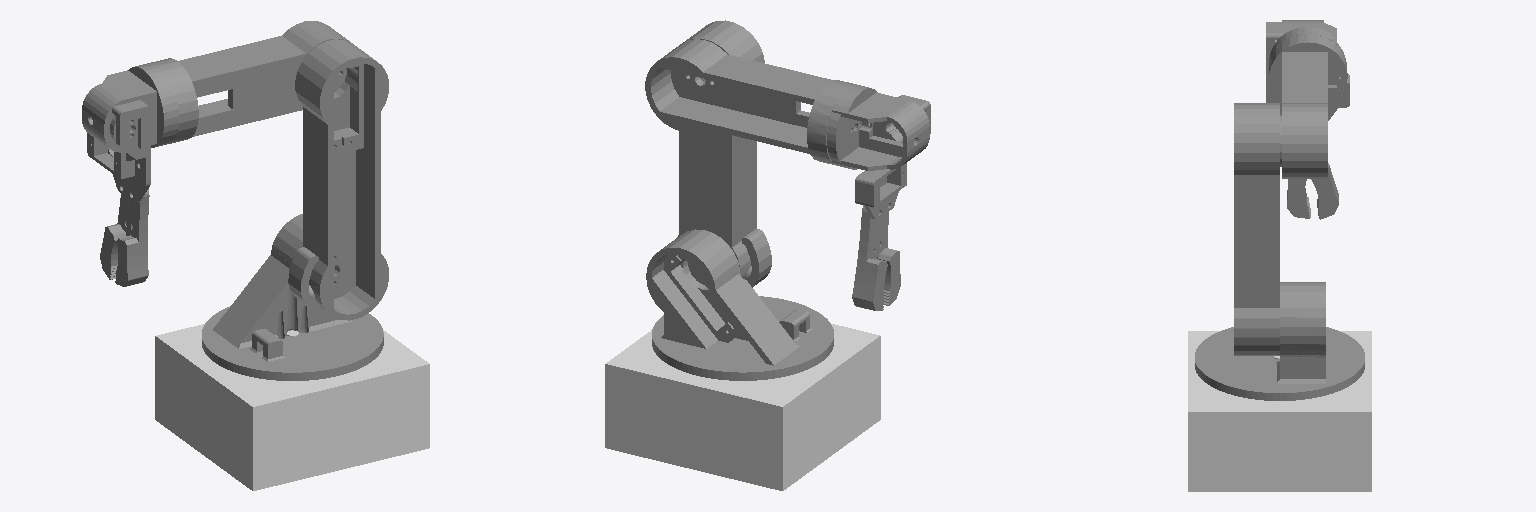
The robot description file, URDF, robot "simulation":
<?xml version="1.0"?>
<robot name="simulation">
  <link name="world" />
  <link name="base_link">
    <inertial>
      <origin xyz="-3.9471656139169E-06 0.0571124462627822 -1.17276231944829E-08" rpy="0 0 0" />
      <mass value="0.531137946414649" />
      <inertia ixx="0.00062928835187918" ixy="-1.54260902849102E-11" ixz="4.62592591097963E-18" iyy="0.00109493048635632" iyz="-1.39717869766964E-10" izz="0.000681022726879226" />
    </inertial>
    <visual>
      <origin xyz="0 0 0" rpy="0 0 0" />
      <geometry>
        <mesh filename="package://robot_c/meshes/base_link.STL" />
      </geometry>
      <material name="base_link_material">
        <color rgba="0.894117647058823 0.894117647058823 0.894117647058823 1" />
      </material>
    </visual>
    <collision>
      <origin xyz="0 0 0" rpy="0 0 0" />
      <geometry>
        <mesh filename="package://robot_c/meshes/base_link.STL" />
      </geometry>
    </collision>
  </link>
  <link name="link_1">
    <inertial>
      <origin xyz="-0.00672382541074007 -0.00461991508358907 0.0184590879178034" rpy="0 0 0" />
      <mass value="0.0822626951373637" />
      <inertia ixx="5.55502952597826E-05" ixy="-4.66210500086204E-06" ixz="1.24085855601881E-05" iyy="6.96571420344847E-05" iyz="6.14770061252054E-06" izz="7.27137383688968E-05" />
    </inertial>
    <visual>
      <origin xyz="0 0 0" rpy="0 0 0" />
      <geometry>
        <mesh filename="package://robot_c/meshes/link_1.STL" />
      </geometry>
      <material name="link_1_material">
        <color rgba="0.627450980392157 0.627450980392157 0.627450980392157 1" />
      </material>
    </visual>
    <collision>
      <origin xyz="0 0 0" rpy="0 0 0" />
      <geometry>
        <mesh filename="package://robot_c/meshes/link_1.STL" />
      </geometry>
    </collision>
  </link>
  <joint name="joint_1" type="revolute">
    <origin xyz="0 0.030813992382893 0" rpy="-1.5707963267949 0 -3.14159265358979" />
    <parent link="base_link" />
    <child link="link_1" />
    <axis xyz="0 0 -1" />
    <limit lower="-1.57079632679" upper="1.57079632679" effort="10" velocity="1" />
    <dynamics damping="0.02" friction="0.001" />
  </joint>
  <link name="link_2">
    <inertial>
      <origin xyz="0.000965170760363857 -0.0103596742234023 -0.0580854874466602" rpy="0 0 0" />
      <mass value="0.0655666551479021" />
      <inertia ixx="0.000154480609773224" ixy="1.82852661194231E-07" ixz="-3.50945199960059E-06" iyy="0.000163089694961387" iyz="8.97514977703611E-07" izz="1.66348948003685E-05" />
    </inertial>
    <visual>
      <origin xyz="0 0 0" rpy="0 0 0" />
      <geometry>
        <mesh filename="package://robot_c/meshes/link_2.STL" />
      </geometry>
      <material name="link_2_material">
        <color rgba="0.627450980392157 0.627450980392157 0.627450980392157 1" />
      </material>
    </visual>
    <collision>
      <origin xyz="0 0 0" rpy="0 0 0" />
      <geometry>
        <mesh filename="package://robot_c/meshes/link_2.STL" />
      </geometry>
    </collision>
  </link>
  <joint name="joint_2" type="revolute">
    <origin xyz="-0.023147502072156 0 0.0436520840606136" rpy="3.14159265358979 0 0" />
    <parent link="link_1" />
    <child link="link_2" />
    <axis xyz="0 -1 0" />
    <limit lower="-1.57079632679" upper="1.57079632679" effort="20" velocity="1" />
    <dynamics damping="0.02" friction="0.001" />
  </joint>
  <link name="link_3">
    <inertial>
      <origin xyz="-1.16978372516341E-07 -0.0127502693536503 -0.0464203579460693" rpy="0 0 0" />
      <mass value="0.0538151512263873" />
      <inertia ixx="8.96951229033901E-05" ixy="-6.28636269884299E-11" ixz="-2.16084543900283E-10" iyy="9.38085957217534E-05" iyz="-2.60124780206827E-06" izz="1.40266997755682E-05" />
    </inertial>
    <visual>
      <origin xyz="0 0 0" rpy="0 0 0" />
      <geometry>
        <mesh filename="package://robot_c/meshes/link_3.STL" />
      </geometry>
      <material name="link_3_material">
        <color rgba="0.627450980392157 0.627450980392157 0.627450980392157 1" />
      </material>
    </visual>
    <collision>
      <origin xyz="0 0 0" rpy="0 0 0" />
      <geometry>
        <mesh filename="package://robot_c/meshes/link_3.STL" />
      </geometry>
    </collision>
  </link>
  <joint name="joint_3" type="revolute">
    <origin xyz="0 0 -0.113123822760279" rpy="0 1.57079629699257 3.14159264838354" />
    <parent link="link_2" />
    <child link="link_3" />
    <axis xyz="0 -1 0" />
    <limit lower="-1.57079632679" upper="1.57079632679" effort="15" velocity="1" />
    <dynamics damping="0.02" friction="0.001" />
  </joint>
  <link name="link_4">
    <inertial>
      <origin xyz="-7.88244630678392E-09 -0.015407124787792 -0.00439678918942163" rpy="0 0 0" />
      <mass value="0.023901259039255" />
      <inertia ixx="6.15517066843123E-06" ixy="-3.44047862897347E-13" ixz="-1.77881475462396E-12" iyy="5.27851249166568E-06" iyz="-5.92663305440348E-07" izz="6.98961418155646E-06" />
    </inertial>
    <visual>
      <origin xyz="0 0 0" rpy="0 0 0" />
      <geometry>
        <mesh filename="package://robot_c/meshes/link_4.STL" />
      </geometry>
      <material name="link_4_material">
        <color rgba="0.627450980392157 0.627450980392157 0.627450980392157 1" />
      </material>
    </visual>
    <collision>
      <origin xyz="0 0 0" rpy="0 0 0" />
      <geometry>
        <mesh filename="package://robot_c/meshes/link_4.STL" />
      </geometry>
    </collision>
  </link>
  <joint name="joint_4" type="revolute">
    <origin xyz="0 -0.01625 -0.09705" rpy="1.5708 0 0" />
    <parent link="link_3" />
    <child link="link_4" />
    <axis xyz="0 1 0" />
    <limit lower="-3.14159265359" upper="3.14159265359" effort="5" velocity="1" />
    <dynamics damping="0.02" friction="0.001" />
  </joint>
  <link name="link_5">
    <inertial>
      <origin xyz="-0.00682663516008861 -0.0186339468941145 0.00373067384113202" rpy="0 0 0" />
      <mass value="0.00946783303096948" />
      <inertia ixx="2.4605380624988E-06" ixy="1.15443041388034E-06" ixz="-1.39217483659141E-07" iyy="2.26175793072706E-06" iyz="3.58298768226607E-07" izz="4.29248406841648E-06" />
    </inertial>
    <visual>
      <origin xyz="0 0 0" rpy="0 0 0" />
      <geometry>
        <mesh filename="package://robot_c/meshes/link_5.STL" />
      </geometry>
      <material name="link_5_material">
        <color rgba="0.627450980392157 0.627450980392157 0.627450980392157 1" />
      </material>
    </visual>
    <collision>
      <origin xyz="0 0 0" rpy="0 0 0" />
      <geometry>
        <mesh filename="package://robot_c/meshes/link_5.STL" />
      </geometry>
    </collision>
  </link>
  <joint name="joint_5" type="revolute">
    <origin xyz="0 -0.02825 0" rpy="-1.5708 -1.5708 0" />
    <parent link="link_4" />
    <child link="link_5" />
    <axis xyz="1 0 0" />
    <limit lower="0.0" upper="3.14159265359" effort="5" velocity="1" />
    <dynamics damping="0.02" friction="0.001" />
  </joint>
  <link name="link_6">
    <inertial>
      <origin xyz="0.0307238225430547 -0.00545916202220177 0.00825511130511464" rpy="0 0 0" />
      <mass value="0.00562756431133923" />
      <inertia ixx="1.96087854490844E-07" ixy="2.72944890893847E-07" ixz="1.28778804514639E-07" iyy="1.3939890761563E-06" iyz="-3.16324052635016E-08" izz="1.43975982398411E-06" />
    </inertial>
    <visual>
      <origin xyz="0 0 0" rpy="0 0 0" />
      <geometry>
        <mesh filename="package://robot_c/meshes/link_6.STL" />
      </geometry>
      <material name="link_6_material">
        <color rgba="0.627450980392157 0.627450980392157 0.627450980392157 1" />
      </material>
    </visual>
    <collision>
      <origin xyz="0 0 0" rpy="0 0 0" />
      <geometry>
        <mesh filename="package://robot_c/meshes/link_6.STL" />
      </geometry>
    </collision>
  </link>
  <joint name="joint_6" type="revolute">
    <origin xyz="-0.0082886 -0.045971 0.0015" rpy="0 0 -1.327" />
    <parent link="link_5" />
    <child link="link_6" />
    <axis xyz="0 0 -1" />
    <limit lower="0" upper="0.5236" effort="1" velocity="1" />
    <dynamics damping="0.001" friction="0" />
  </joint>
  <link name="link_7">
    <inertial>
      <origin xyz="0.0307279704332338 -0.00547330363670791 -0.00820765069496046" rpy="0 0 0" />
      <mass value="0.00563883145079538" />
      <inertia ixx="1.96774198048593E-07" ixy="2.73345706832742E-07" ixz="-1.28841230186014E-07" iyy="1.39487001234458E-06" iyz="3.16799004258014E-08" izz="1.44114833142786E-06" />
    </inertial>
    <visual>
      <origin xyz="0 0 0" rpy="0 0 0" />
      <geometry>
        <mesh filename="package://robot_c/meshes/link_7.STL" />
      </geometry>
      <material name="link_7_material">
        <color rgba="0.627450980392157 0.627450980392157 0.627450980392157 1" />
      </material>
    </visual>
    <collision>
      <origin xyz="0 0 0" rpy="0 0 0" />
      <geometry>
        <mesh filename="package://robot_c/meshes/link_7.STL" />
      </geometry>
    </collision>
  </link>
  <joint name="joint_7" type="revolute">
    <origin xyz="0.0022114 -0.045971 0.0015469" rpy="-3.1416 0 -1.5725" />
    <parent link="link_5" />
    <child link="link_7" />
    <axis xyz="0 0 1" />
    <limit lower="-0.5236" upper="0.000001" effort="1" velocity="1" />
    <dynamics damping="0.001" friction="0" />
  </joint>
  <joint name="world_mount" type="fixed">
    <parent link="world" />
    <child link="base_link" />
    <origin xyz="0 0 0.08081402" rpy="-1.5707963267948966 0 0" />
  </joint>
</robot>

--- Facts derived from the render (not from the file) ---
3 views of the same robot in one strip: view 1: azimuth 30°, elevation 25°; view 2: azimuth 150°, elevation 25°; view 3: azimuth 270°, elevation 25° (orthographic).
Model simulation with 9 links and 8 joints (7 revolute, 1 fixed), rooted at world, posed all joints at 0.
Links seen in each view (by area): view 1: base_link, link_2, link_1, link_3, link_4, link_5, link_6, link_7; view 2: base_link, link_1, link_3, link_2, link_4, link_7, link_5, link_6; view 3: base_link, link_2, link_1, link_3, link_4, link_5, link_7, link_6.
Boxes of the visible links, <box> form: base_link: <box>155,324,429,490</box>; link_2: <box>288,39,388,320</box>; link_1: <box>202,214,383,380</box>; link_3: <box>151,21,349,143</box>; link_4: <box>82,63,178,152</box>; link_5: <box>87,100,150,202</box>; link_6: <box>115,189,149,286</box>; link_7: <box>100,193,132,279</box>; base_link: <box>605,324,880,490</box>; link_1: <box>646,229,833,380</box>; link_3: <box>645,39,856,164</box>; link_2: <box>677,20,771,287</box>; link_4: <box>827,84,929,170</box>; link_7: <box>852,205,887,310</box>; link_5: <box>855,95,930,219</box>; link_6: <box>874,212,900,305</box>; base_link: <box>1188,331,1371,491</box>; link_2: <box>1234,103,1281,355</box>; link_1: <box>1195,282,1364,400</box>; link_3: <box>1269,34,1347,178</box>; link_4: <box>1269,20,1344,64</box>; link_5: <box>1266,22,1349,120</box>; link_7: <box>1311,163,1338,219</box>; link_6: <box>1287,179,1310,218</box>.
Size in the robot's own frame: 0.1714 by 0.105 by 0.2292 metres.
Meshes: 8 distinct files referenced, 8 mesh visuals loaded (8 binary STL).
